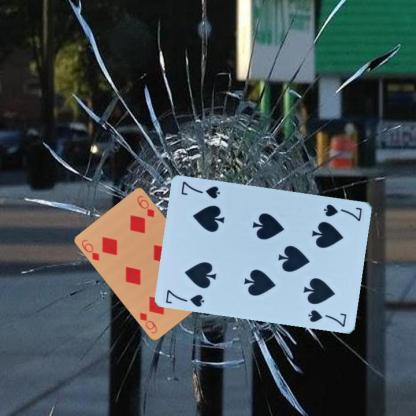6d: (79, 237, 101, 262)
7s: (162, 286, 206, 308), (320, 201, 364, 222)
